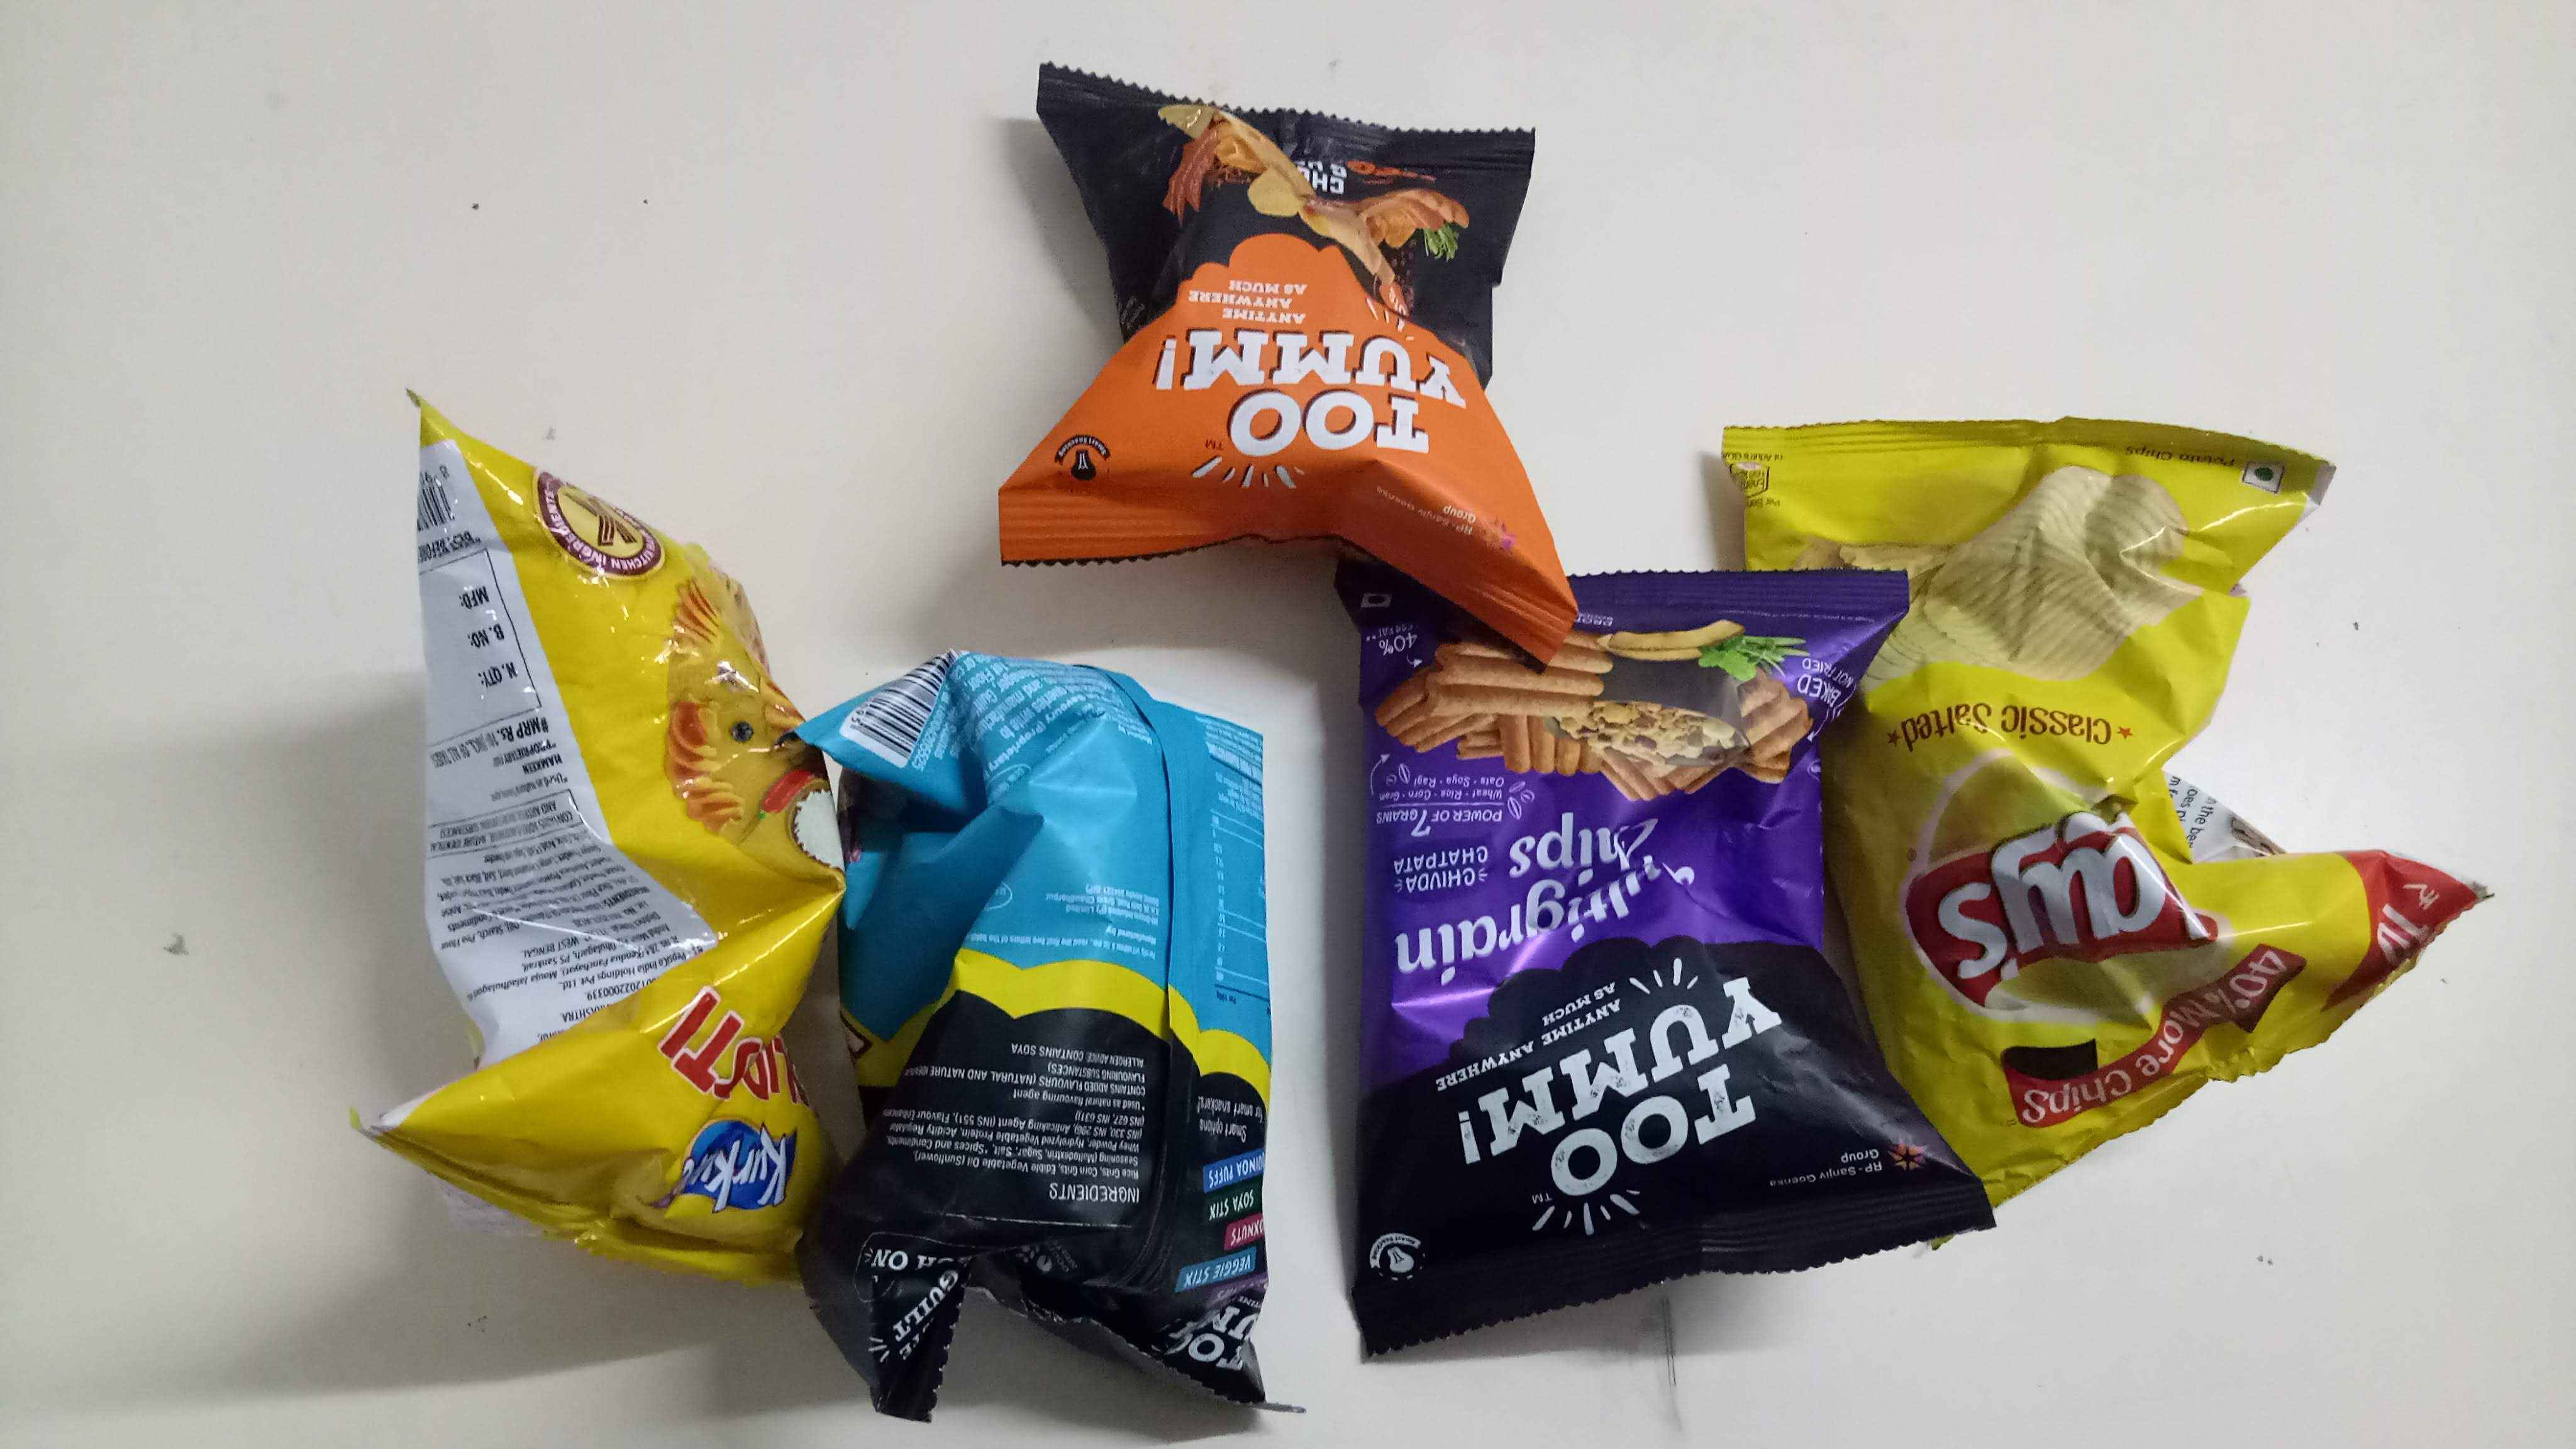Lays: (1907, 747, 2219, 1047)
kurkure: (637, 1118, 835, 1217)
tooyumm: (1440, 966, 1806, 1230), (1132, 336, 1474, 471), (1171, 1277, 1270, 1376)
